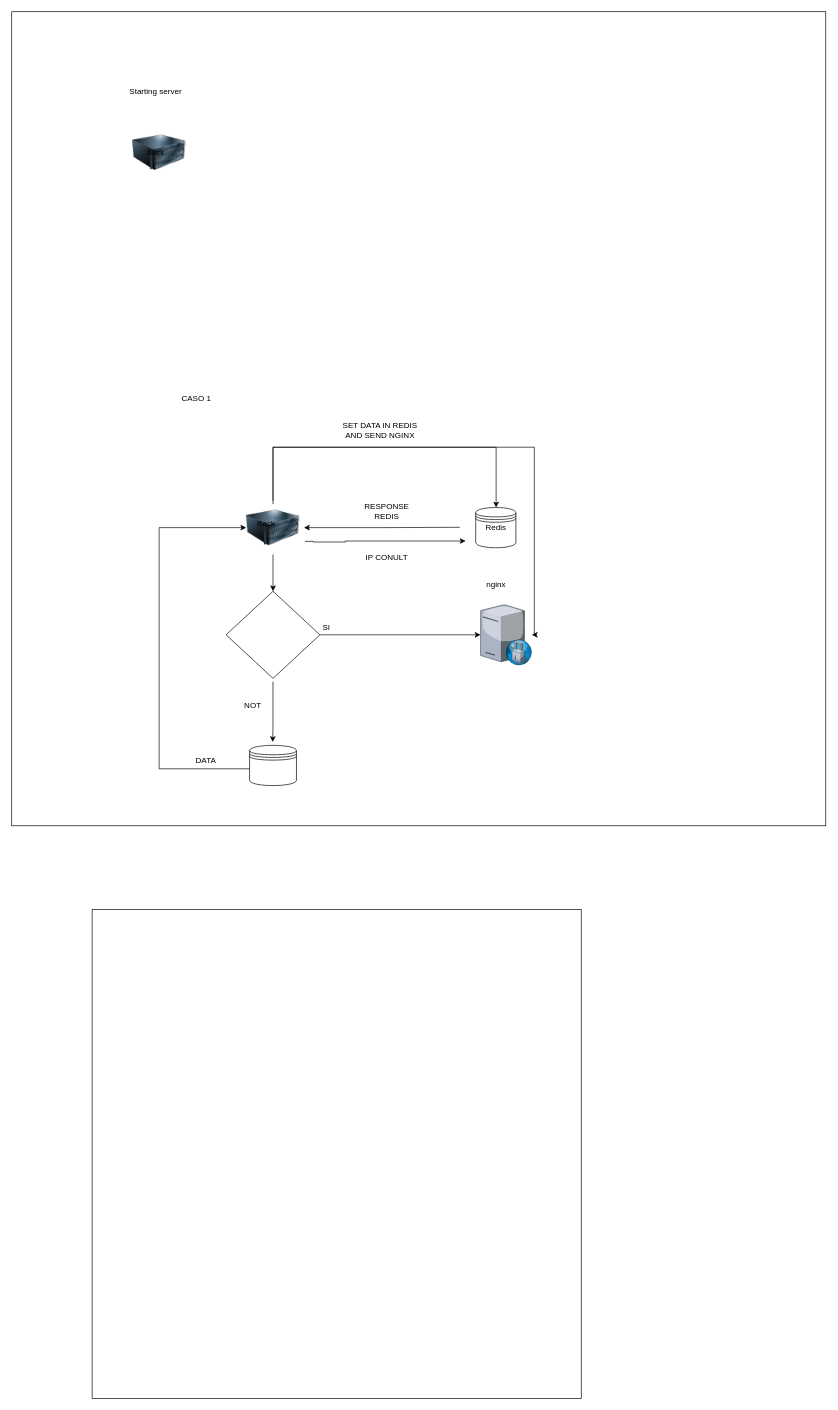
The diagram is 838 pixels wide and 1410 high, and some of its shapes have lost their labels. The centre of each missing label's shape, as x and y in pixels:
"DATA IN REDIS NOT NULL" goes at [272,634].
"FIle DB" goes at [272,765].
